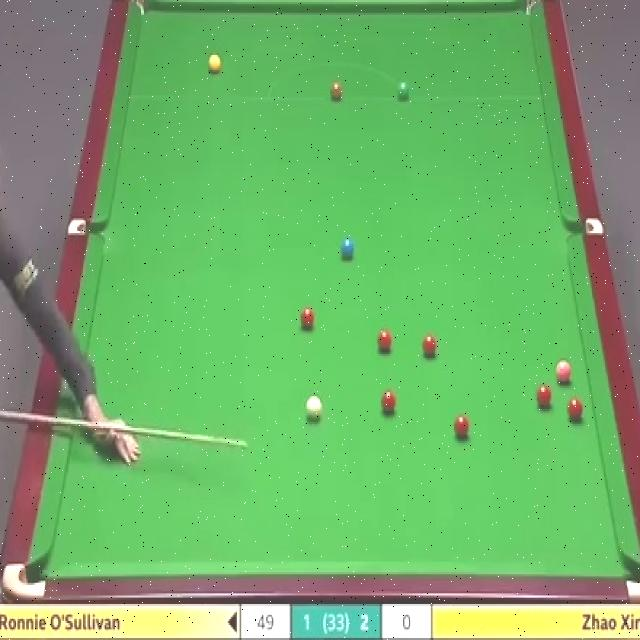blue-ball: (340, 235, 355, 262)
brown-ball: (329, 82, 344, 100)
green-ball: (396, 79, 411, 102)
pink-ball: (554, 359, 572, 385)
red-ball: (377, 328, 393, 356), (535, 383, 551, 410), (381, 388, 397, 415), (422, 334, 438, 360), (453, 415, 470, 439), (569, 397, 584, 423), (300, 306, 314, 328)
white-ball: (304, 394, 323, 422)
yellow-ball: (208, 56, 222, 76)
